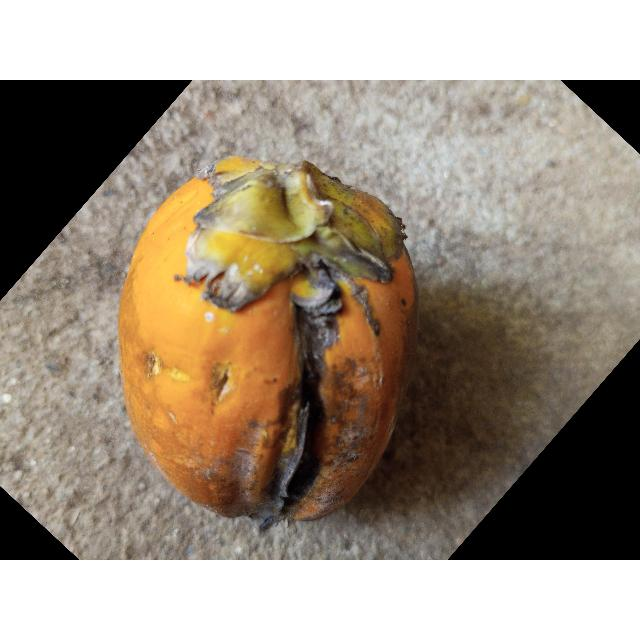damaged: (115, 156, 419, 529)
